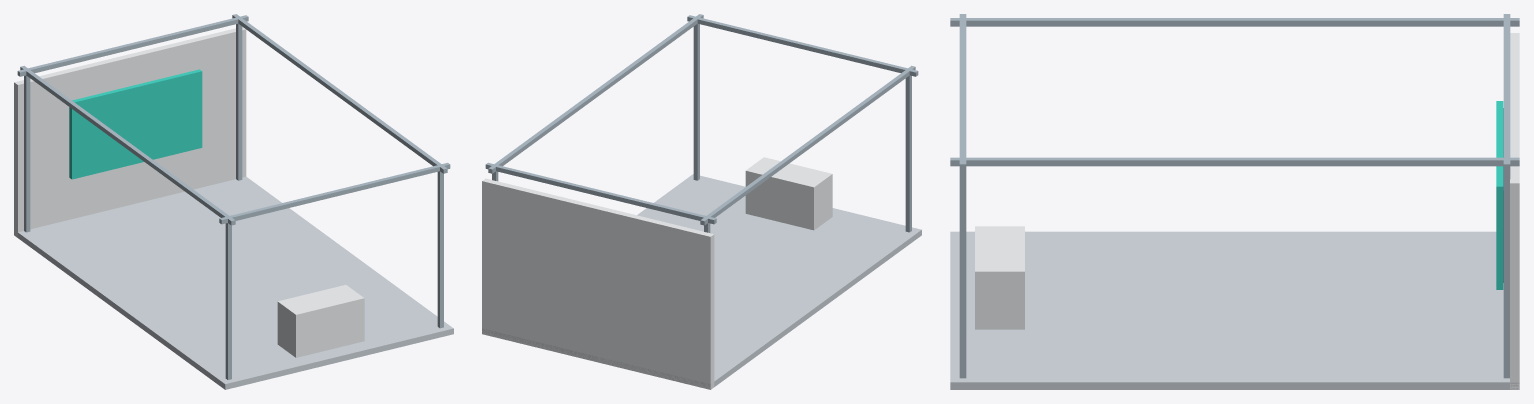
3 renders of one model, left to right at view 1: azimuth 30°, elevation 25°; view 2: azimuth 150°, elevation 25°; view 3: azimuth 270°, elevation 25°, orthographic. The views are drawn at different scales.
Visible parts, largest first — view 1: Exhibition Booth Concept; view 2: Exhibition Booth Concept; view 3: Exhibition Booth Concept.
Part boxes in pixels (x1,y1,x2,y2): Exhibition Booth Concept: (14,14,453,389); Exhibition Booth Concept: (482,14,921,389); Exhibition Booth Concept: (950,14,1519,389).
Size of the model in its own units: 5 by 3.49 by 8.
